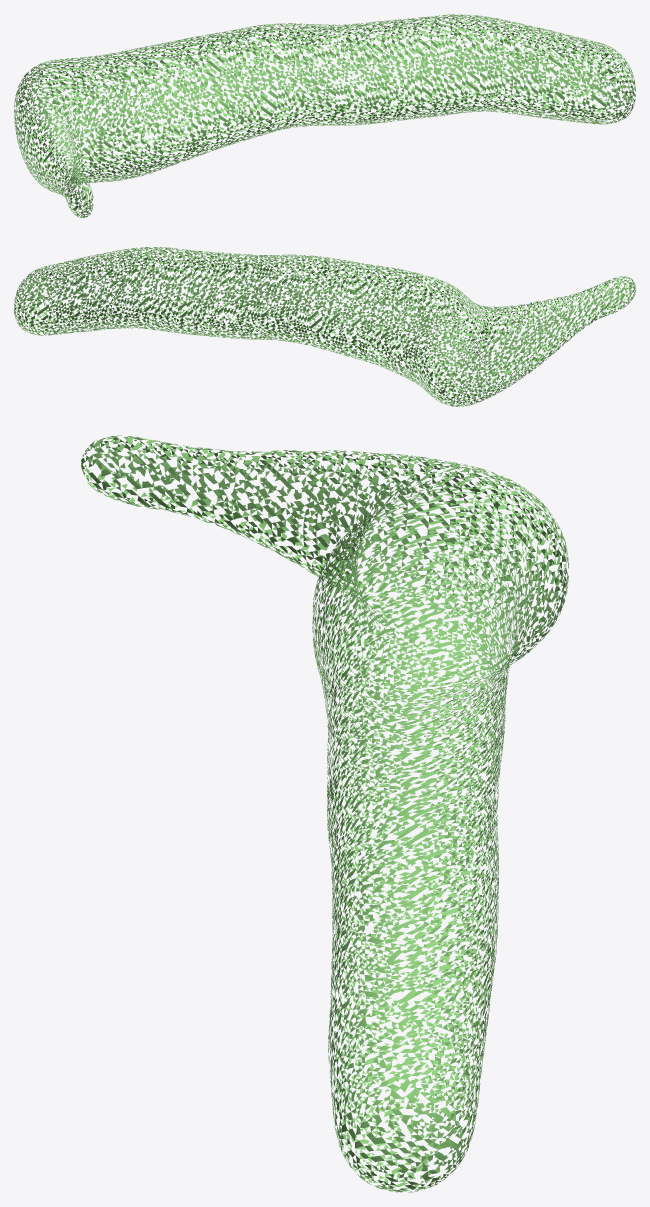
File: morph_015.glb
3 views of the same model, one above another, from view 1: azimuth 30°, elevation 25°; view 2: azimuth 150°, elevation 25°; view 3: azimuth 270°, elevation 25° (orthographic). The views are drawn at different scales.
Size of the model in its own units: 132 by 34.41 by 52.05.
